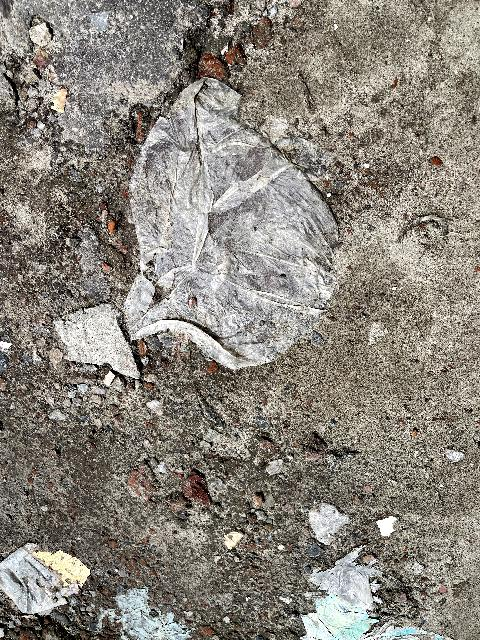polythene: (124, 113, 353, 366)
